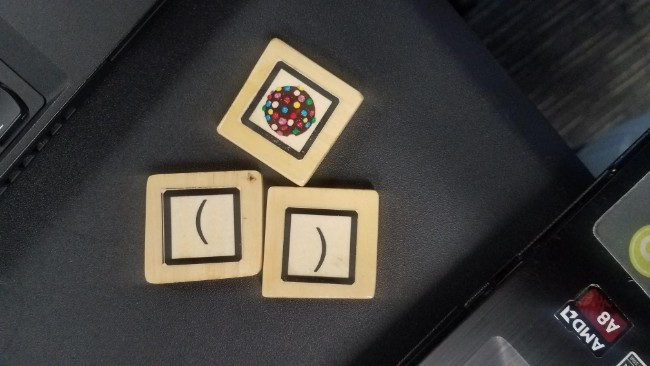cookie: (236, 54, 345, 163)
